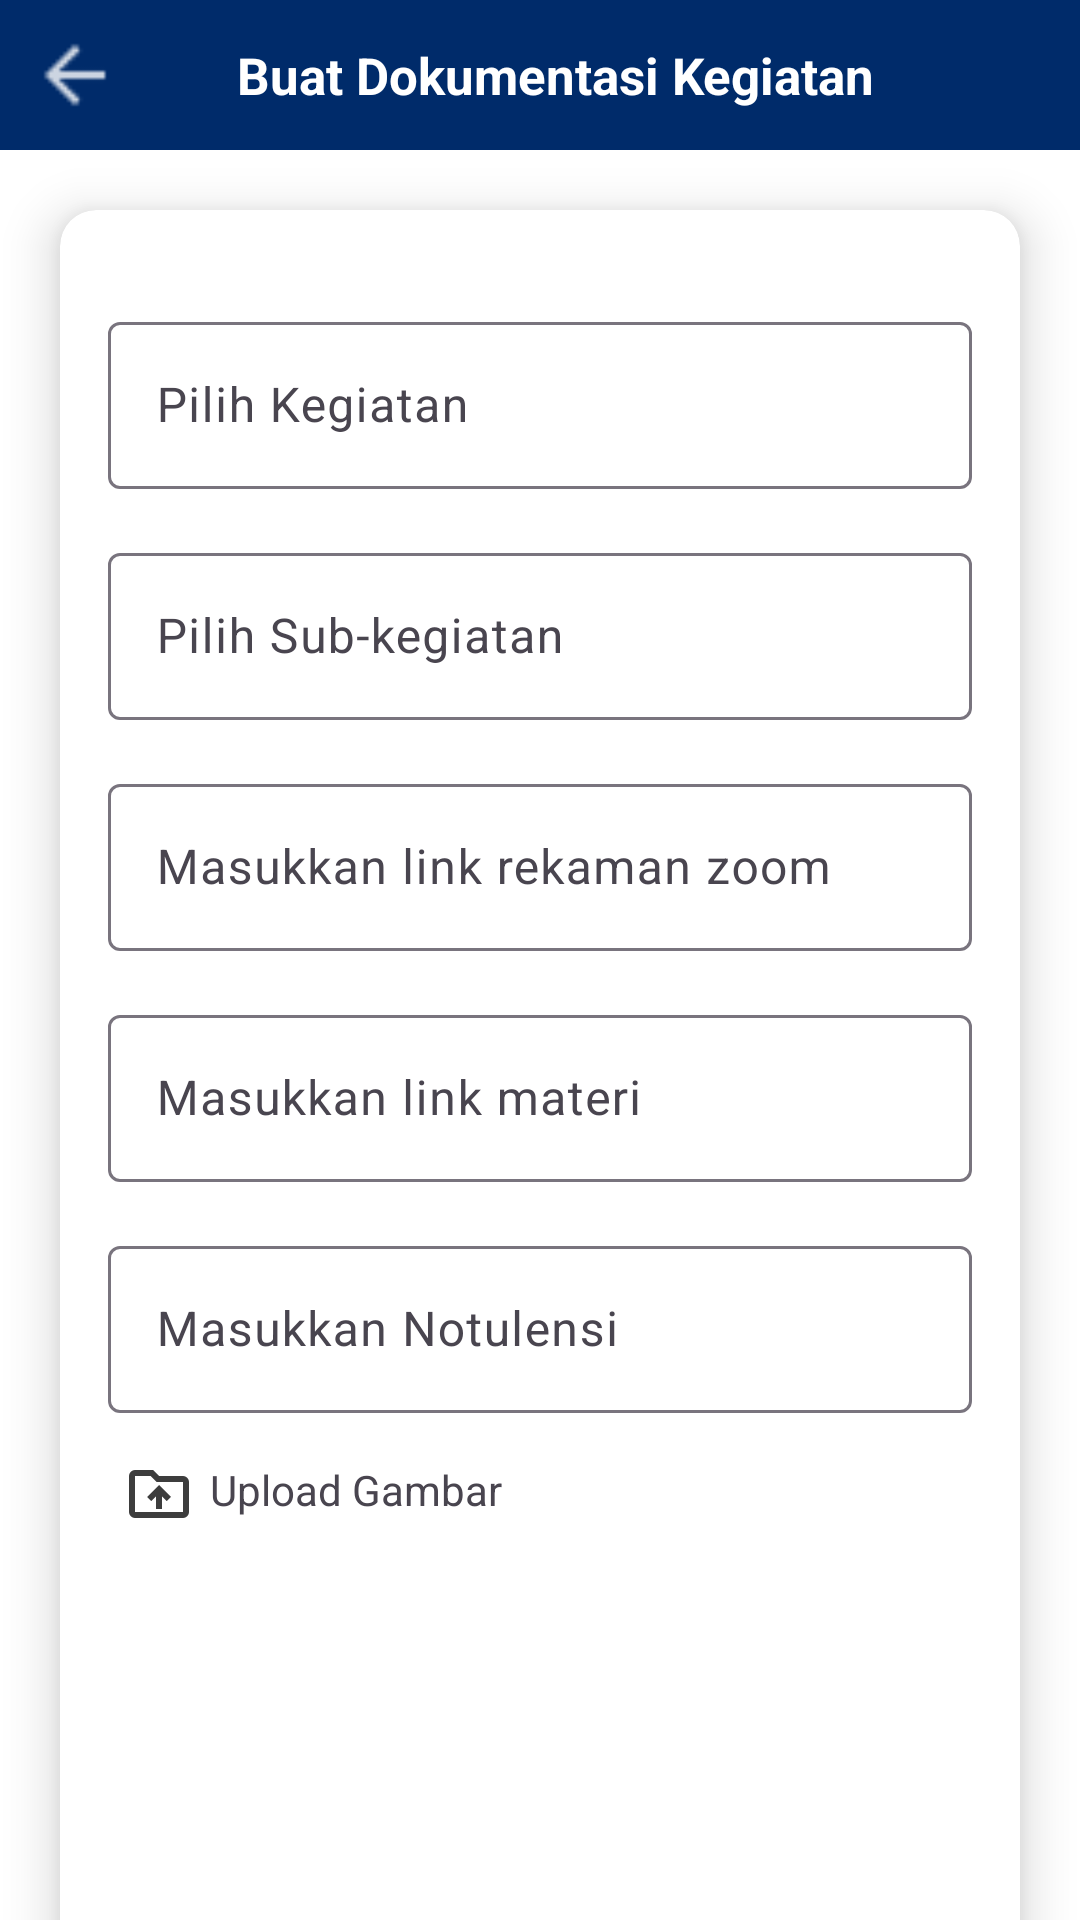

Locate icon controls on the screen. Image size 1080w x 1920h, boxes as detection(x1, y1, x2, y2).
back: detection(44, 44, 106, 106)
